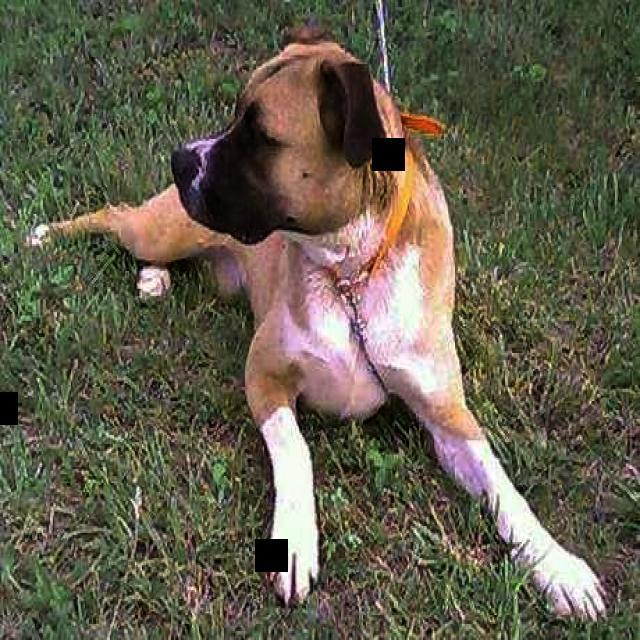adult_dog: (23, 27, 610, 619)
